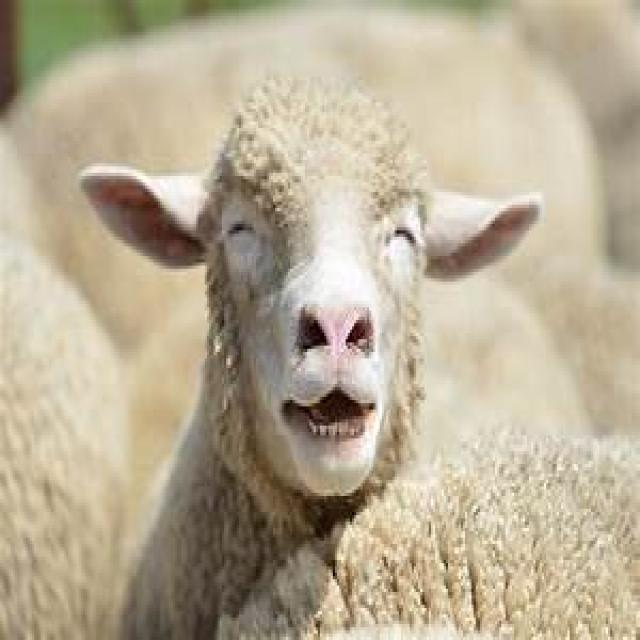animal: (76, 68, 546, 640), (213, 422, 640, 640)
